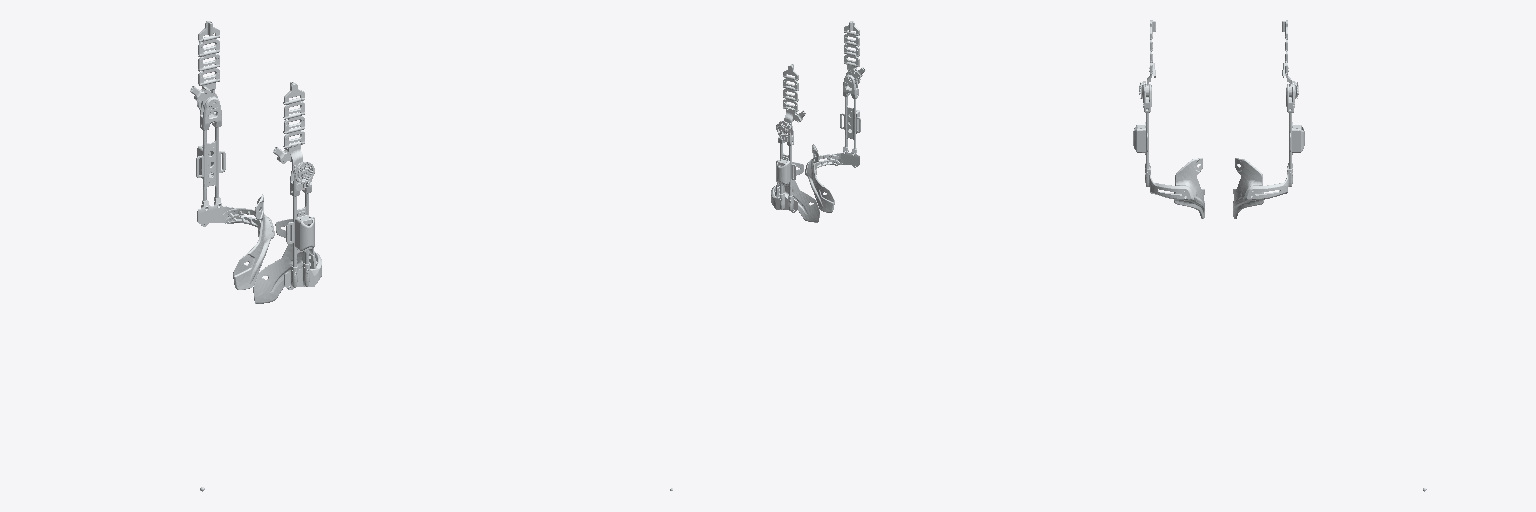
The robot description file, URDF, robot "ziqexo":
<?xml version="1.0" encoding="utf-8"?>
<!-- This URDF was automatically created by SolidWorks to URDF Exporter! Originally created by [author] ([email redacted]) 
     Commit Version: 1.6.0-4-g7f85cfe  Build Version: 1.6.7995.38578
     For more information, please see http://wiki.ros.org/sw_urdf_exporter -->
<robot
  name="ziqexo">

  <link
    name="base_link">
    <inertial>
      <origin
        xyz="-0.0387303798095905 -0.00118959702369348 0.0148357037518236"
        rpy="0 0 0" />
      <mass
        value="4.69089563690233" />
      <inertia
        ixx="0.0117275106386608"
        ixy="6.09512282228781E-06"
        ixz="-2.71844429819199E-05"
        iyy="0.00576063687448701"
        iyz="-2.18386499343736E-05"
        izz="0.00944800113348651" />
    </inertial>
    <visual>
      <origin
        xyz="0 0 0"
        rpy="0 0 0" />
      <geometry>
        <mesh
          filename="package://ziqexo/meshes/base_link.STL" />
      </geometry>
      <material
        name="">
        <color
          rgba="0.898039215686275 0.917647058823529 0.929411764705882 1" />
      </material>
    </visual>
    <collision>
      <origin
        xyz="0 0 0"
        rpy="0 0 0" />
      <geometry>
        <mesh
          filename="package://ziqexo/meshes/base_link.STL" />
      </geometry>
    </collision>
  </link>

  <!-- <joint
    name="R1J"
    type="revolute">
    <origin
      xyz="0.15962 0.091055 -0.0087816"
      rpy="0 0 0.16768" />
    <parent
      link="base_link" />
    <child
      link="R1L" />
    <axis
      xyz="0 0 1" />
  </joint> -->

  <link
    name="L1L">
    <inertial>
      <origin
        xyz="-0.104730378324795 -0.172689588781392 0.0238672692967335"
        rpy="0 0 0" />
      <mass
        value="4.69089576707843" />
      <inertia
        ixx="0.011727509637516"
        ixy="6.09530813314716E-06"
        ixz="-2.71844152503246E-05"
        iyy="0.00576063702317705"
        iyz="-2.18387815856666E-05"
        izz="0.00944800012033632" />
    </inertial>
    <visual>
      <origin
        xyz="0 0 0"
        rpy="0 0 0" />
      <geometry>
        <mesh
          filename="package://ziqexo/meshes/L1L.STL" />
      </geometry>
      <material
        name="">
        <color
          rgba="0.898039215686275 0.917647058823529 0.929411764705882 1" />
      </material>
    </visual>
    <collision>
      <origin
        xyz="0 0 0"
        rpy="0 0 0" />
      <geometry>
        <mesh
          filename="package://ziqexo/meshes/L1L.STL" />
      </geometry>
    </collision>
  </link>

  <joint
    name="L1J"
    type="revolute">
    <origin
      xyz="0.0659999999999998 0.171500000000065 -0.00878156854282648"
      rpy="0 0 -0.0166351038220328" />
    <parent
      link="base_link" />
    <child
      link="L1L" />
    <axis
      xyz="0 0 -1" />
    <limit
      lower="-1"
      upper="1"
      effort="5"
      velocity="5" />
  </joint>

  <link
    name="L2L">
    <inertial>
      <origin
        xyz="-0.130317801248485 -0.18108988241994 0.078617268671564"
        rpy="0 0 0" />
      <mass
        value="4.69089580990493" />
      <inertia
        ixx="0.0117274387900655"
        ixy="-2.14518006338922E-05"
        ixz="-2.72849448350978E-05"
        iyy="0.00576070796318936"
        iyz="-2.17130295400487E-05"
        izz="0.00944800012711411" />
    </inertial>
    <visual>
      <origin
        xyz="0 0 0"
        rpy="0 0 0" />
      <geometry>
        <mesh
          filename="package://ziqexo/meshes/L2L.STL" />
      </geometry>
      <material
        name="">
        <color
          rgba="0.898039215686275 0.917647058823529 0.929411764705882 1" />
      </material>
    </visual>
    <collision>
      <origin
        xyz="0 0 0"
        rpy="0 0 0" />
      <geometry>
        <mesh
          filename="package://ziqexo/meshes/L2L.STL" />
      </geometry>
    </collision>
  </link>

  <joint
    name="L2J"
    type="revolute">
    <origin
      xyz="0.0249999999999921 0.00899999999999213 -0.05475"
      rpy="0 0 0.0046166963452234" />
    <parent
      link="L1L" />
    <child
      link="L2L" />
    <axis
      xyz="0.999989343076356 -0.00461667994528388 0" />
    <limit
      lower="-1"
      upper="1"
      effort="5"
      velocity="5" />
  </joint>

  <link
    name="L3L">
    <inertial>
      <origin
        xyz="-0.129480378439562 -0.181689588155087 0.112617268681241"
        rpy="0 0 0" />
      <mass
        value="4.69089580943956" />
      <inertia
        ixx="0.0117275096861212"
        ixy="6.09530682904846E-06"
        ixz="-2.7184411934192E-05"
        iyy="0.00576063706629768"
        iyz="-2.18387637533629E-05"
        izz="0.00944800012648934" />
    </inertial>
    <visual>
      <origin
        xyz="0 0 0"
        rpy="0 0 0" />
      <geometry>
        <mesh
          filename="package://ziqexo/meshes/L3L.STL" />
      </geometry>
      <material
        name="">
        <color
          rgba="0.898039215686275 0.917647058823529 0.929411764705882 1" />
      </material>
    </visual>
    <collision>
      <origin
        xyz="0 0 0"
        rpy="0 0 0" />
      <geometry>
        <mesh
          filename="package://ziqexo/meshes/L3L.STL" />
      </geometry>
    </collision>
  </link>

  <joint
    name="L3J"
    type="revolute">
    <origin
      xyz="0.00025 0 -0.034"
      rpy="0 0 -0.0046167" />
    <parent
      link="L2L" />
    <child
      link="L3L" />
    <axis
      xyz="-1 0 0" />
    <limit
      lower="-1"
      upper="1"
      effort="5"
      velocity="5" />
  </joint>

  <link
    name="L4L">
    <inertial>
      <origin
        xyz="-0.129480378293527 -0.181689588689617 0.146617269184717"
        rpy="0 0 0" />
      <mass
        value="4.69089577024095" />
      <inertia
        ixx="0.0117275096420417"
        ixy="6.09530811813578E-06"
        ixz="-2.71844151629961E-05"
        iyy="0.00576063702746607"
        iyz="-2.18387802950609E-05"
        izz="0.00944800012060679" />
    </inertial>
    <visual>
      <origin
        xyz="0 0 0"
        rpy="0 0 0" />
      <geometry>
        <mesh
          filename="package://ziqexo/meshes/L4L.STL" />
      </geometry>
      <material
        name="">
        <color
          rgba="0.898039215686275 0.917647058823529 0.929411764705882 1" />
      </material>
    </visual>
    <collision>
      <origin
        xyz="0 0 0"
        rpy="0 0 0" />
      <geometry>
        <mesh
          filename="package://ziqexo/meshes/L4L.STL" />
      </geometry>
    </collision>
  </link>

  <joint
    name="L4J"
    type="revolute">
    <origin
      xyz="0.00025 0 -0.034"
      rpy="0 0 0" />
    <parent
      link="L3L" />
    <child
      link="L4L" />
    <axis
      xyz="-1 0 0" />
    <limit
      lower="-1"
      upper="1"
      effort="5"
      velocity="5" />
  </joint>

  <link
    name="L5L">
    <inertial>
      <origin
        xyz="-0.129730378443383 -0.181689588160934 0.180617268682207"
        rpy="0 0 0" />
      <mass
        value="4.69089581004689" />
      <inertia
        ixx="0.0117275096871242"
        ixy="6.09530682598E-06"
        ixz="-2.71844119675018E-05"
        iyy="0.00576063706634924"
        iyz="-2.18387641474907E-05"
        izz="0.00944800012744442" />
    </inertial>
    <visual>
      <origin
        xyz="0 0 0"
        rpy="0 0 0" />
      <geometry>
        <mesh
          filename="package://ziqexo/meshes/L5L.STL" />
      </geometry>
      <material
        name="">
        <color
          rgba="0.898039215686275 0.917647058823529 0.929411764705882 1" />
      </material>
    </visual>
    <collision>
      <origin
        xyz="0 0 0"
        rpy="0 0 0" />
      <geometry>
        <mesh
          filename="package://ziqexo/meshes/L5L.STL" />
      </geometry>
    </collision>
  </link>

  <joint
    name="L5J"
    type="revolute">
    <origin
      xyz="0.00025 0 -0.034"
      rpy="0 0 0" />
    <parent
      link="L4L" />
    <child
      link="L5L" />
    <axis
      xyz="-1 0 0" />
    <limit
      lower="-1"
      upper="1"
      effort="5"
      velocity="5" />
  </joint>

  <link
    name="L6L">
    <inertial>
      <origin
        xyz="0.0277825488062467 -0.0467460284559176 -0.199433302158825"
        rpy="0 0 0" />
      <mass
        value="0.591248151817611" />
      <inertia
        ixx="0.0011103088707956"
        ixy="5.49506317780545E-05"
        ixz="-0.000143769510788408"
        iyy="0.00121220167629709"
        iyz="-0.000151272909156448"
        izz="0.000745808196991831" />
    </inertial>
    <visual>
      <origin
        xyz="0 0 0"
        rpy="0 0 0" />
      <geometry>
        <mesh
          filename="package://ziqexo/meshes/L6L.STL" />
      </geometry>
      <material
        name="">
        <color
          rgba="0.898039215686275 0.917647058823529 0.929411764705882 1" />
      </material>
    </visual>
    <collision>
      <origin
        xyz="0 0 0"
        rpy="0 0 0" />
      <geometry>
        <mesh
          filename="package://ziqexo/meshes/L6L.STL" />
      </geometry>
    </collision>
  </link>

  <joint
    name="L6J"
    type="revolute">
    <origin
      xyz="-0.0152499999999999 0.00637500000000013 -0.0575399362039866"
      rpy="0 0 0.00461669634513596" />
    <parent
      link="L5L" />
    <child
      link="L6L" />
    <axis
      xyz="-0.00461667994518117 -0.999989343076357 0" />
    <limit
      lower="-1"
      upper="1"
      effort="5"
      velocity="5" />
  </joint>

  <link
    name="R1L">
    <inertial>
      <origin
        xyz="-0.109566712495577 0.167240003750459 0.0238672723116034"
        rpy="0 0 0" />
      <mass
        value="4.69089556922219" />
      <inertia
        ixx="0.0117222650017562"
        ixy="0.000176963433195596"
        ixz="-2.65476408591164E-05"
        iyy="0.00576588350195832"
        iyz="-2.260833759597E-05"
        izz="0.00944800214340692" />
    </inertial>
    <visual>
      <origin
        xyz="0 0 0"
        rpy="0 0 0" />
      <geometry>
        <mesh
          filename="package://ziqexo/meshes/R1L.STL" />
      </geometry>
      <material
        name="">
        <color
          rgba="0.898039215686275 0.917647058823529 0.929411764705882 1" />
      </material>
    </visual>
    <collision>
      <origin
        xyz="0 0 0"
        rpy="0 0 0" />
      <geometry>
        <mesh
          filename="package://ziqexo/meshes/R1L.STL" />
      </geometry>
    </collision>
  </link>

  <joint
    name="R1J"
    type="revolute">
    <origin
      xyz="0.0660000000000012 -0.171499999999678 -0.00878156854235404"
      rpy="0 0 -0.0120184074772329" />
    <parent
      link="base_link" />
    <child
      link="R1L" />
    <axis
      xyz="0 0 1" />
    <limit
      lower="-1"
      upper="1"
      effort="5"
      velocity="5" />
  </joint>

  <link
    name="R2L">
    <inertial>
      <origin
        xyz="-0.134564399322651 0.175527232028616 0.0786172723290321"
        rpy="0 0 0" />
      <mass
        value="4.69089556755207" />
      <inertia
        ixx="0.0117222650002732"
        ixy="0.000176963433148413"
        ixz="-2.6547640901762E-05"
        iyy="0.00576588350111037"
        iyz="-2.26083379762766E-05"
        izz="0.00944800214276403" />
    </inertial>
    <visual>
      <origin
        xyz="0 0 0"
        rpy="0 0 0" />
      <geometry>
        <mesh
          filename="package://ziqexo/meshes/R2L.STL" />
      </geometry>
      <material
        name="">
        <color
          rgba="0.898039215686275 0.917647058823529 0.929411764705882 1" />
      </material>
    </visual>
    <collision>
      <origin
        xyz="0 0 0"
        rpy="0 0 0" />
      <geometry>
        <mesh
          filename="package://ziqexo/meshes/R2L.STL" />
      </geometry>
    </collision>
  </link>
  <joint
    name="R2J"
    type="revolute">
    <origin
      xyz="0.0252475842210998 -0.00828006588130253 -0.0547499999999979"
      rpy="0 0 0" />
    <parent
      link="R1L" />
    <child
      link="R2L" />
    <axis
      xyz="0.999589516231009 0.0286495905914415 0" />
    <limit
      lower="-1"
      upper="1"
      effort="5"
      velocity="5" />
  </joint>
  <link
    name="R3L">
    <inertial>
      <origin
        xyz="-0.129980379538716 0.179310395808592 0.112617272438364"
        rpy="0 0 0" />
      <mass
        value="4.69089556542918" />
      <inertia
        ixx="0.0117275117056796"
        ixy="6.09508715275161E-06"
        ixz="-2.71844631437412E-05"
        iyy="0.00576063679575562"
        iyz="-2.18384785703547E-05"
        izz="0.00944800214275133" />
    </inertial>
    <visual>
      <origin
        xyz="0 0 0"
        rpy="0 0 0" />
      <geometry>
        <mesh
          filename="package://ziqexo/meshes/R3L.STL" />
      </geometry>
      <material
        name="">
        <color
          rgba="0.898039215686275 0.917647058823529 0.929411764705882 1" />
      </material>
    </visual>
    <collision>
      <origin
        xyz="0 0 0"
        rpy="0 0 0" />
      <geometry>
        <mesh
          filename="package://ziqexo/meshes/R3L.STL" />
      </geometry>
    </collision>
  </link>
  <joint
    name="R3J"
    type="revolute">
    <origin
      xyz="0.000249897379056951 0 -0.0339999999999676"
      rpy="0 0 0.0286535112991777" />
    <parent
      link="R2L" />
    <child
      link="R3L" />
    <axis
      xyz="-1 0 0" />
    <limit
      lower="-1"
      upper="1"
      effort="5"
      velocity="5" />
  </joint>
  <link
    name="R4L">
    <inertial>
      <origin
        xyz="-0.12948037958473 0.179310396115125 0.1466172721127"
        rpy="0 0 0" />
      <mass
        value="4.69089558668954" />
      <inertia
        ixx="0.0117275117283983"
        ixy="6.09508677417846E-06"
        ixz="-2.71844614308637E-05"
        iyy="0.00576063681868264"
        iyz="-2.18384734591802E-05"
        izz="0.00944800214287027" />
    </inertial>
    <visual>
      <origin
        xyz="0 0 0"
        rpy="0 0 0" />
      <geometry>
        <mesh
          filename="package://ziqexo/meshes/R4L.STL" />
      </geometry>
      <material
        name="">
        <color
          rgba="0.898039215686275 0.917647058823529 0.929411764705882 1" />
      </material>
    </visual>
    <collision>
      <origin
        xyz="0 0 0"
        rpy="0 0 0" />
      <geometry>
        <mesh
          filename="package://ziqexo/meshes/R4L.STL" />
      </geometry>
    </collision>
  </link>
  <joint
    name="R4J"
    type="revolute">
    <origin
      xyz="-0.000249999999999112 0 -0.0340000000000025"
      rpy="0 0 0" />
    <parent
      link="R3L" />
    <child
      link="R4L" />
    <axis
      xyz="-1 0 0" />
    <limit
      lower="-1"
      upper="1"
      effort="5"
      velocity="5" />
  </joint>
  <link
    name="R5L">
    <inertial>
      <origin
        xyz="-0.129730379606247 0.179310396075618 0.180617272159063"
        rpy="0 0 0" />
      <mass
        value="4.69089558585023" />
      <inertia
        ixx="0.0117275117284258"
        ixy="6.09508676648025E-06"
        ixz="-2.71844614168852E-05"
        iyy="0.00576063681867053"
        iyz="-2.18384734456433E-05"
        izz="0.0094480021428824" />
    </inertial>
    <visual>
      <origin
        xyz="0 0 0"
        rpy="0 0 0" />
      <geometry>
        <mesh
          filename="package://ziqexo/meshes/R5L.STL" />
      </geometry>
      <material
        name="">
        <color
          rgba="0.898039215686275 0.917647058823529 0.929411764705882 1" />
      </material>
    </visual>
    <collision>
      <origin
        xyz="0 0 0"
        rpy="0 0 0" />
      <geometry>
        <mesh
          filename="package://ziqexo/meshes/R5L.STL" />
      </geometry>
    </collision>
  </link>
  <joint
    name="R5J"
    type="revolute">
    <origin
      xyz="0.000249999999999362 0 -0.0339999999999979"
      rpy="0 0 0" />
    <parent
      link="R4L" />
    <child
      link="R5L" />
    <axis
      xyz="-1 0 0" />
    <limit
      lower="-1"
      upper="1"
      effort="5"
      velocity="5" />
  </joint>
  <link
    name="R6L">
    <inertial>
      <origin
        xyz="0.0280061196518679 0.0456196572128787 -0.199441481247519"
        rpy="0 0 0" />
      <mass
        value="0.591366330550879" />
      <inertia
        ixx="0.00110989245520616"
        ixy="-5.44749807272346E-05"
        ixz="-0.000143046575254331"
        iyy="0.0012127930670137"
        iyz="0.000151932225476797"
        izz="0.000745856132683039" />
    </inertial>
    <visual>
      <origin
        xyz="0 0 0"
        rpy="0 0 0" />
      <geometry>
        <mesh
          filename="package://ziqexo/meshes/R6L.STL" />
      </geometry>
      <material
        name="">
        <color
          rgba="0.898039215686275 0.917647058823529 0.929411764705882 1" />
      </material>
    </visual>
    <collision>
      <origin
        xyz="0 0 0"
        rpy="0 0 0" />
      <geometry>
        <mesh
          filename="package://ziqexo/meshes/R6L.STL" />
      </geometry>
    </collision>
  </link>
  <joint
    name="R6J"
    type="revolute">
    <origin
      xyz="-0.0152499999999982 -0.00537500000000118 -0.0575399362039849"
      rpy="0 0 0" />
    <parent
      link="R5L" />
    <child
      link="R6L" />
    <axis
      xyz="0 1 0" />
    <limit
      lower="-1"
      upper="1"
      effort="5"
      velocity="5" />
  </joint>
</robot>

--- What the picture shows (computed from the rendered views, not written in the file) ---
The picture shows the robot from 3 angles, left to right: view 1: azimuth 30°, elevation 25°; view 2: azimuth 150°, elevation 25°; view 3: azimuth 270°, elevation 25°; orthographic projection.
Robot: ziqexo — 13 links, 12 joints (12 revolute); root link base_link; default pose: every joint at zero.
Links seen in each view (by area): view 1: L6L, R6L, R5L; view 2: R6L, L6L; view 3: L6L, R6L.
Link boxes in pixels (x1,y1,x2,y2): L6L: (196,97,274,289); R6L: (253,166,321,303); R5L: (273,141,314,183); R6L: (805,75,860,212); L6L: (771,124,819,222); L6L: (1233,84,1304,218); R6L: (1133,84,1204,218).
Size in the robot's own frame: 0.2501 by 0.78 by 1.29 metres.
Meshes: 13 distinct files referenced, 13 mesh visuals loaded (13 binary STL).
